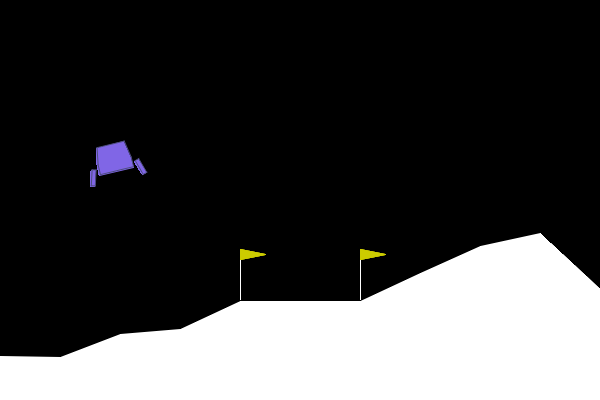lander: (80, 136, 148, 189)
